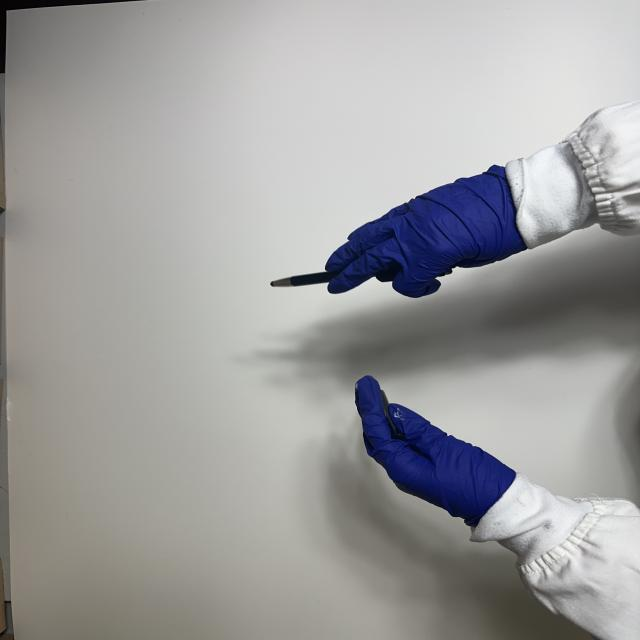gloves_contaminated: (326, 166, 526, 298), (355, 376, 515, 525)
